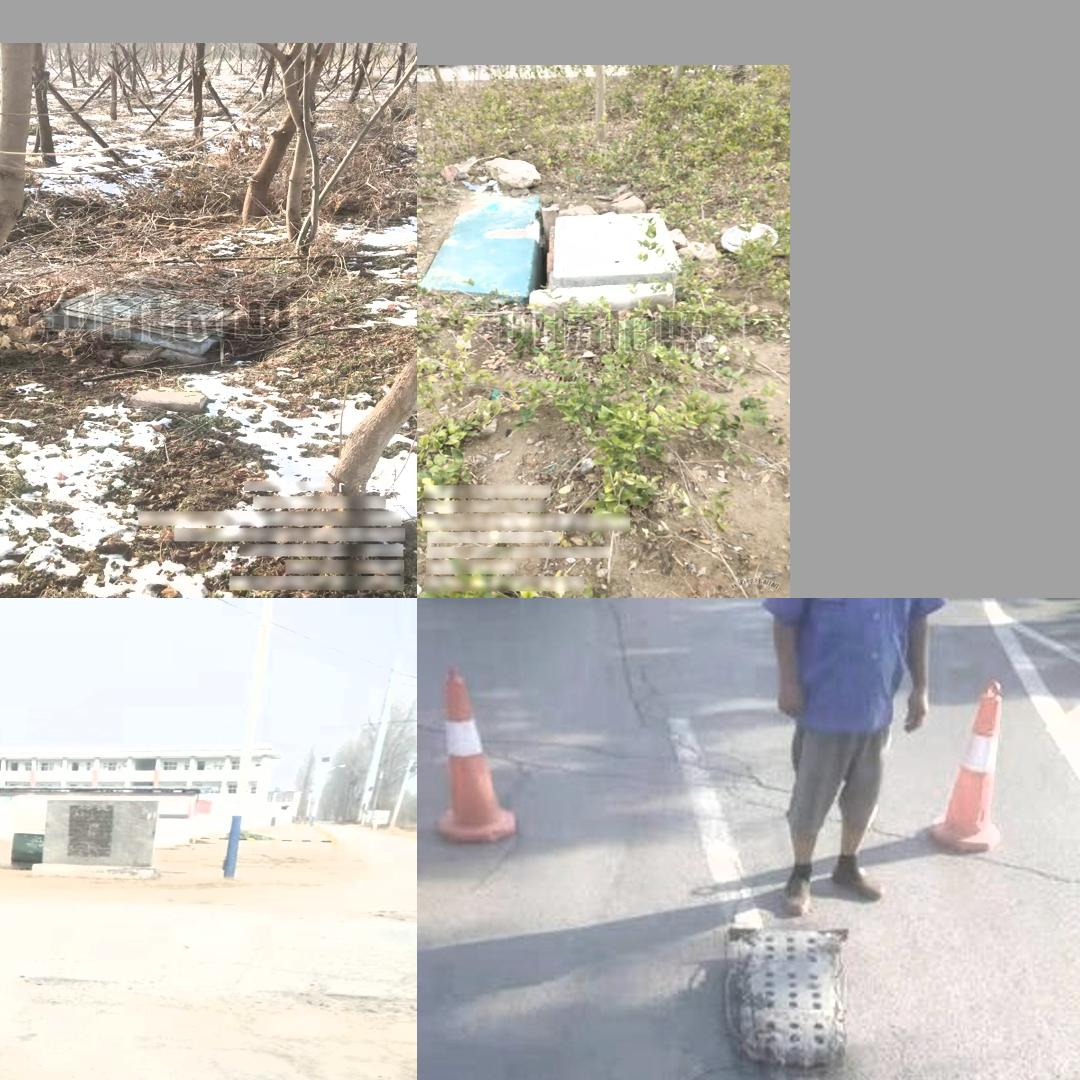circle: (40, 257, 296, 359), (526, 206, 691, 303)
